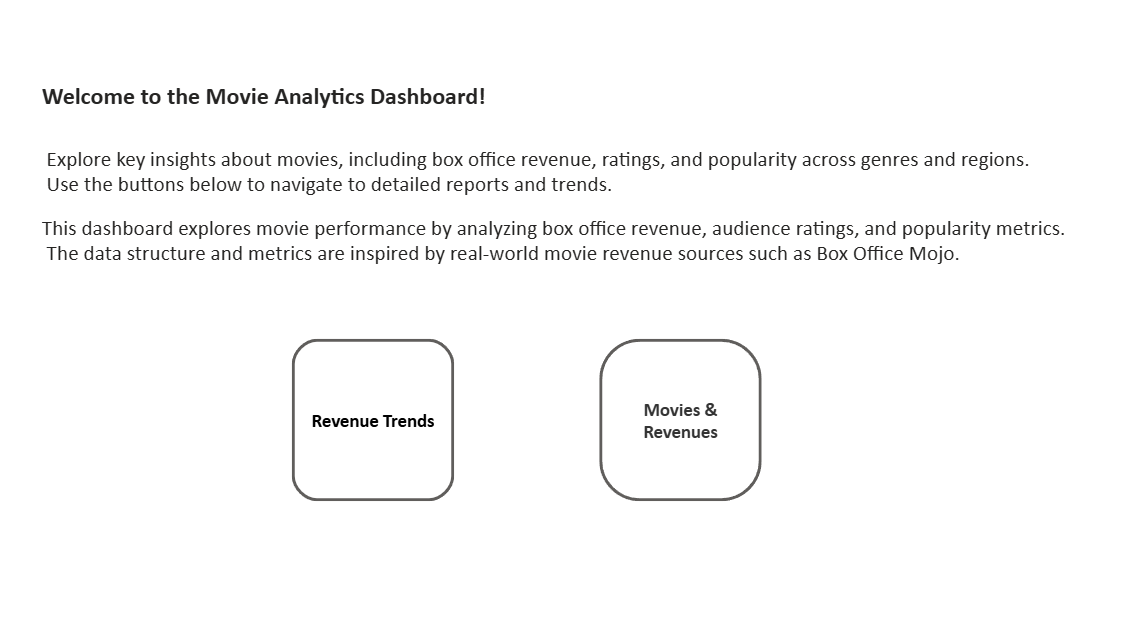

The dashboard page shown, as its layout file describes it:
{"tool":"powerbi","page":{"name":"Home","canvas":[1280,720],"ordinal":0},"visuals":[{"type":"textbox","box":[88.8,111.2,1147.5,213.8],"z":0},{"type":"actionButton","box":[343.8,373.8,162.5,162.5],"z":1000},{"type":"actionButton","box":[651.2,373.8,162.5,162.5],"z":2000}]}

Visuals, with their boxes in screenshot pixels (x1, y1, x2, y2), scaled from the page's 1280x720 canvas onto the 1137x630 screenshot:
textbox: [79,97,1098,284]
actionButton: [305,327,450,469]
actionButton: [578,327,723,469]
